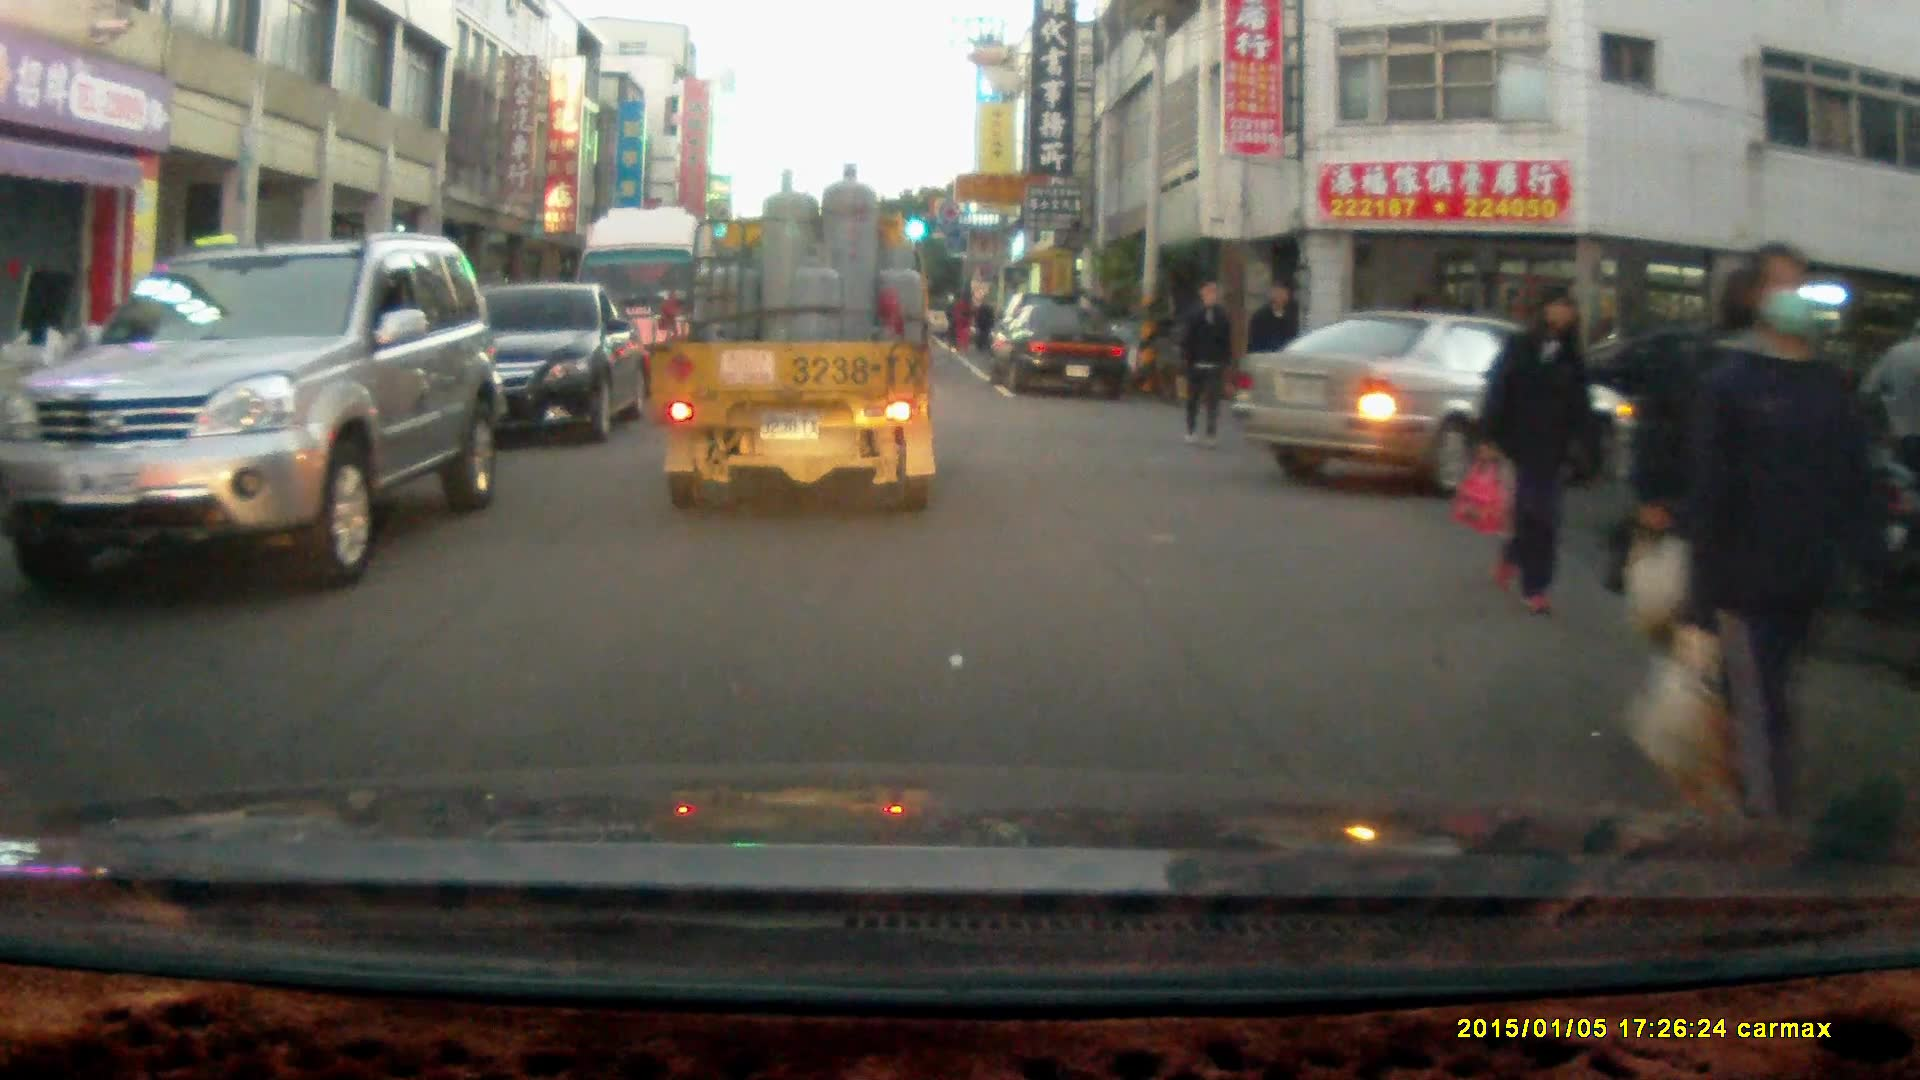pedestrian: (1684, 236, 1876, 839), (1629, 270, 1780, 757), (1476, 288, 1602, 623), (1178, 274, 1234, 452), (1243, 279, 1303, 443), (970, 289, 997, 357)
rider: (1849, 316, 1920, 618)
vehicle: (3, 230, 509, 597), (649, 159, 937, 519), (1238, 310, 1644, 505), (406, 281, 643, 445), (572, 207, 741, 404), (985, 302, 1132, 400)
